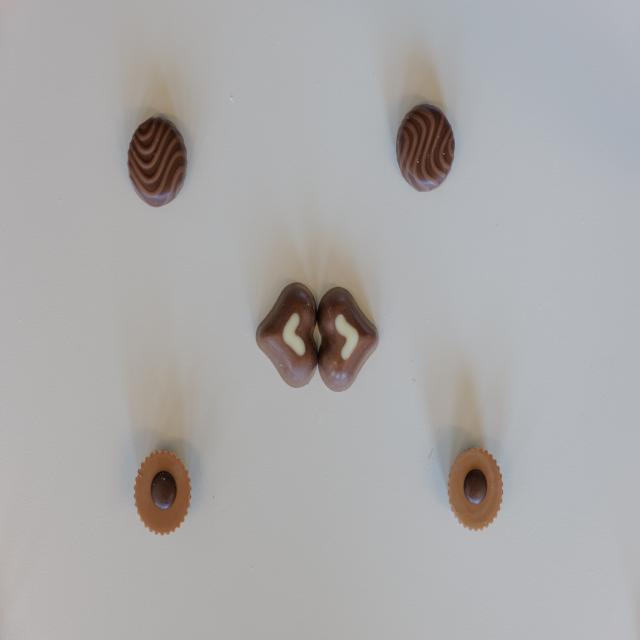Noblesse: (134, 449, 193, 533), (446, 446, 504, 529)
Noir_authentique: (127, 117, 187, 206), (397, 104, 454, 192)
Passion_au_lait: (256, 283, 320, 389), (316, 286, 379, 393)
